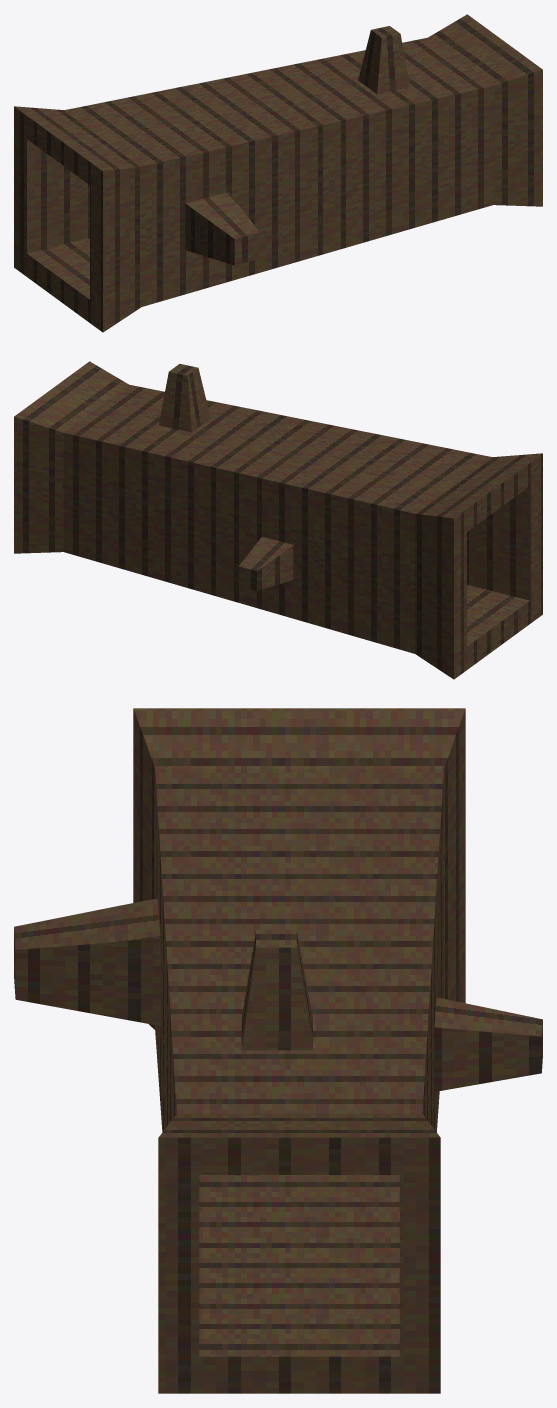
File: tronco_caido.glb
3 views of the same model, one above another, from view 1: azimuth 30°, elevation 25°; view 2: azimuth 150°, elevation 25°; view 3: azimuth 270°, elevation 25° (orthographic). The views are drawn at different scales.
Parts seen in each view (by area): view 1: tronco_caido; view 2: tronco_caido; view 3: tronco_caido.
Part boxes in pixels (box(x1,y1,x2,y2)): tronco_caido: box(14, 14, 542, 332); tronco_caido: box(14, 361, 542, 679); tronco_caido: box(14, 708, 542, 1393).
Size of the model in its own units: 1.92 by 0.8 by 1.05.
1 material, 1 textured.
